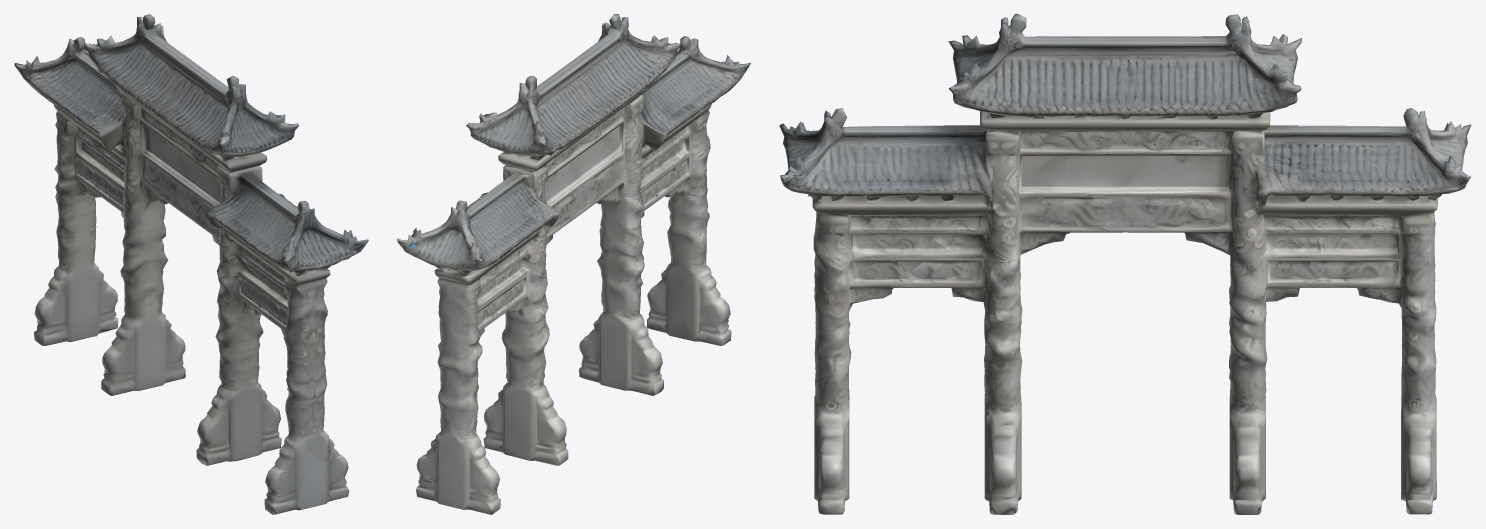
File: paifang.glb
The picture shows the model from 3 angles, left to right: view 1: azimuth 30°, elevation 25°; view 2: azimuth 150°, elevation 25°; view 3: azimuth 270°, elevation 25°; orthographic projection. The views are drawn at different scales.
Parts seen in each view (by area): view 1: tripo_node_89c5226e-4b3a-44b2-bf3b-5ec3a3e2b9bd; view 2: tripo_node_89c5226e-4b3a-44b2-bf3b-5ec3a3e2b9bd; view 3: tripo_node_89c5226e-4b3a-44b2-bf3b-5ec3a3e2b9bd.
Boxes of the visible parts, x1=… form: tripo_node_89c5226e-4b3a-44b2-bf3b-5ec3a3e2b9bd: x1=14, y1=14, x2=368, y2=514; tripo_node_89c5226e-4b3a-44b2-bf3b-5ec3a3e2b9bd: x1=397, y1=14, x2=750, y2=514; tripo_node_89c5226e-4b3a-44b2-bf3b-5ec3a3e2b9bd: x1=779, y1=14, x2=1471, y2=514.
Size of the model in its own units: 0.1852 by 0.7607 by 1.
1 material, 1 textured.
